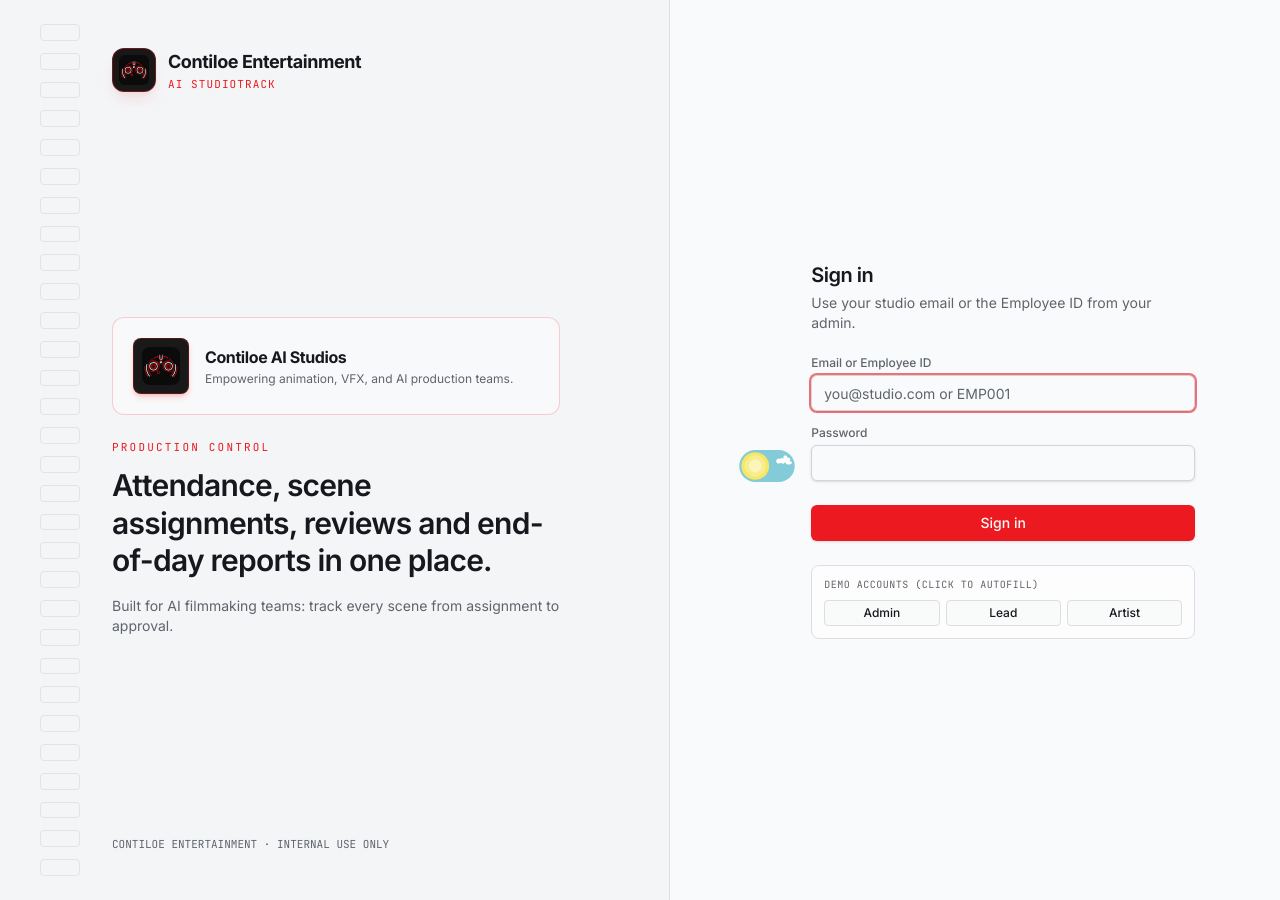
Test: LoginPage › shows the lockout message after too many wrong passwords
The image size is (1280, 900).
Type "lead.anim@studio.test" into the field labelled "Email or Employee ID".
click(1003, 393); type("lead.anim@studio.test")  # box [811, 375, 1195, 411]
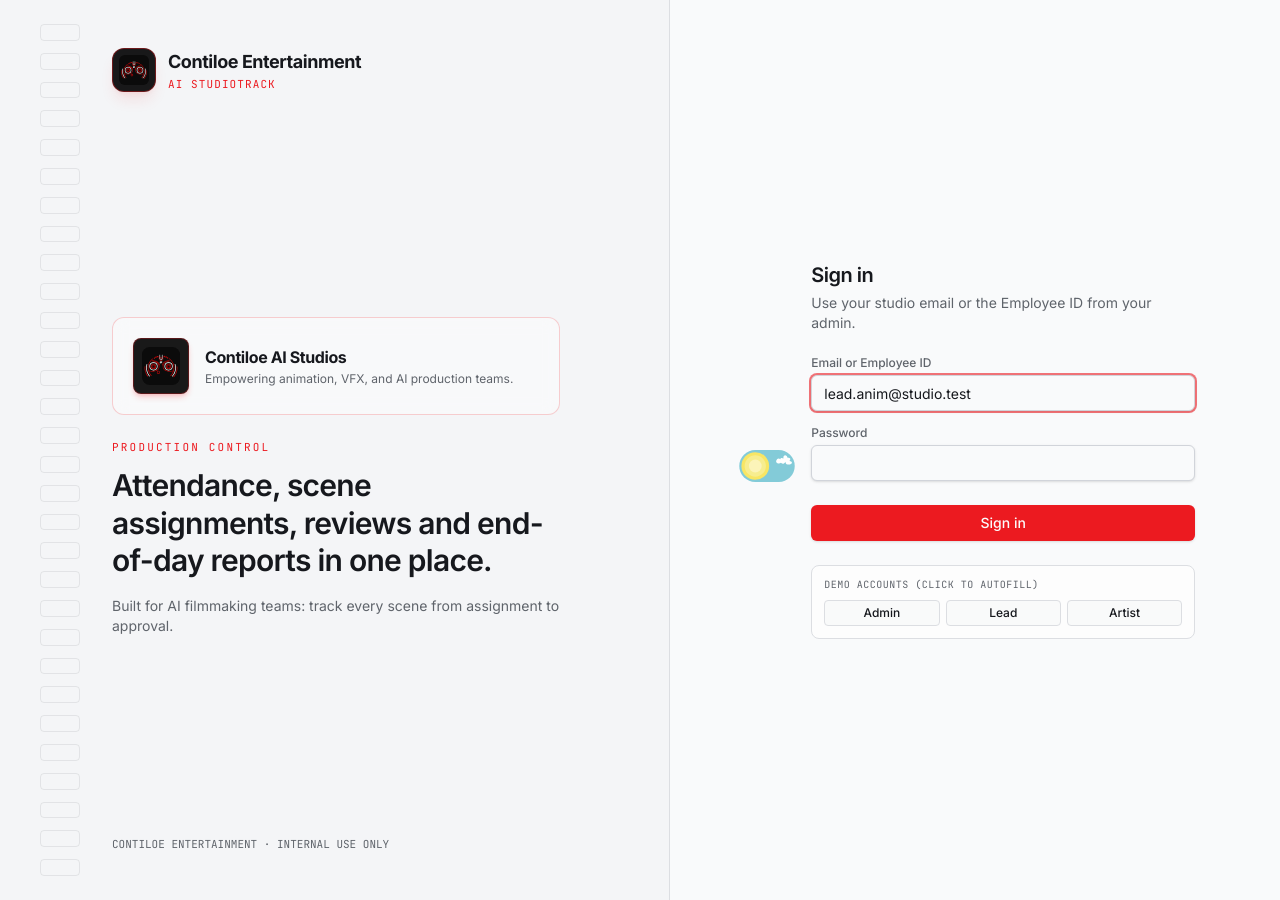
Type "wrong" into the password field labelled "Password".
click(1003, 463); type("wrong")  # box [811, 445, 1195, 481]
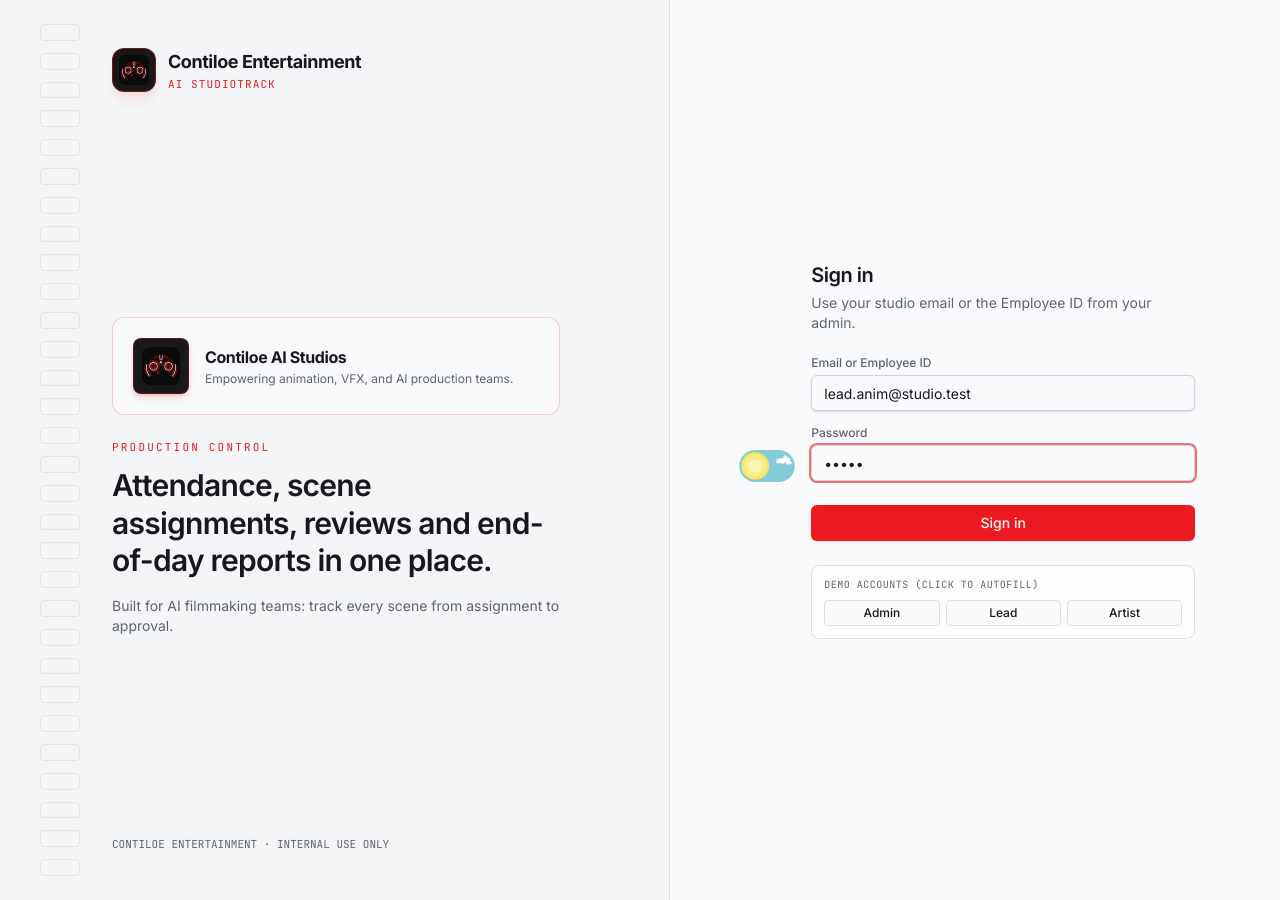
Click the button "Sign in".
click(1003, 523)  # box [811, 505, 1195, 541]
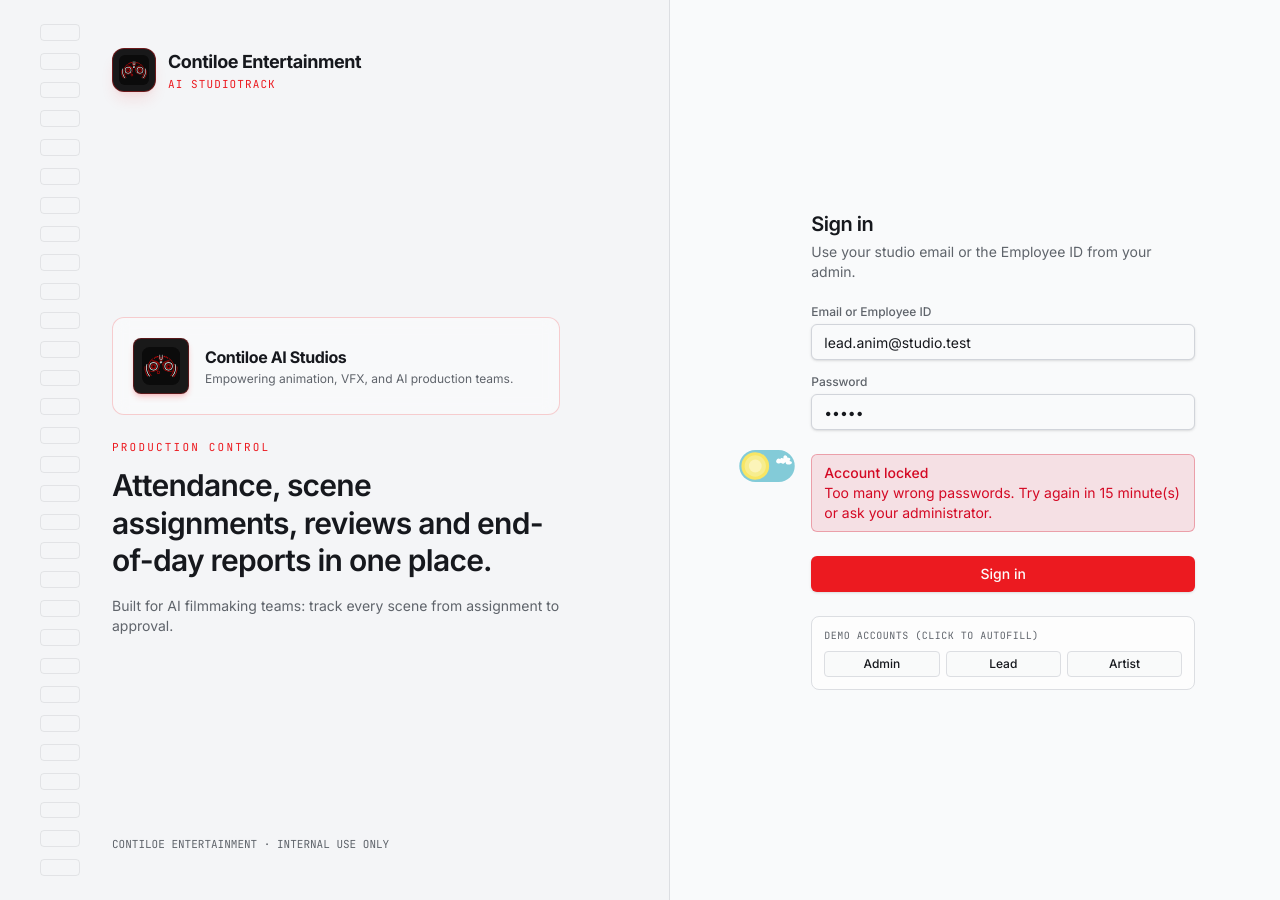
Expected: the message shows "Account locked", [824, 464, 928, 481]
Expected: the message shows "Too many wrong passwords. Try again in 15 minute(s) or ask your administrator.", [824, 484, 1180, 521]
